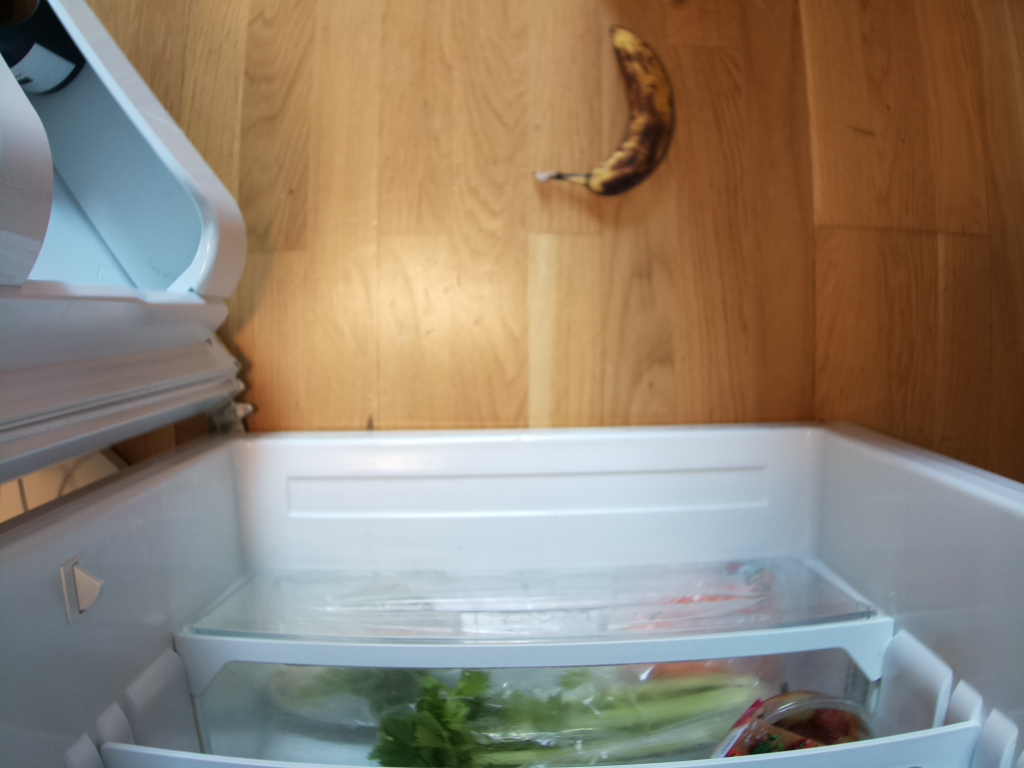banana-overripe: (538, 24, 675, 201)
